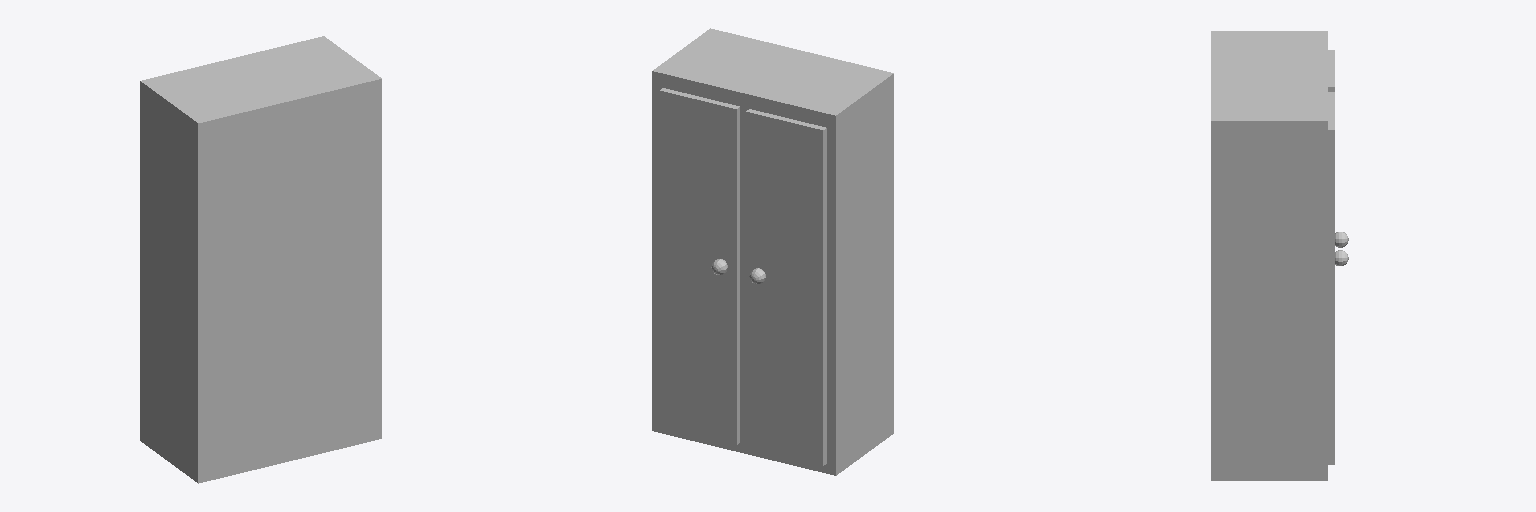
Rendered from Wardrobe.obj.
3 renders of one model, left to right at view 1: azimuth 30°, elevation 25°; view 2: azimuth 150°, elevation 25°; view 3: azimuth 270°, elevation 25°, orthographic.
Visible parts, largest first — view 1: group[number redacted]; view 2: group[number redacted]; view 3: group[number redacted].
Part boxes in pixels (left/top/right/bottom): group[number redacted]: left=140, top=36, right=381, bottom=483; group[number redacted]: left=652, top=28, right=893, bottom=475; group[number redacted]: left=1211, top=31, right=1348, bottom=480.
Size of the model in its own units: 1.02 by 1.91 by 0.6606.